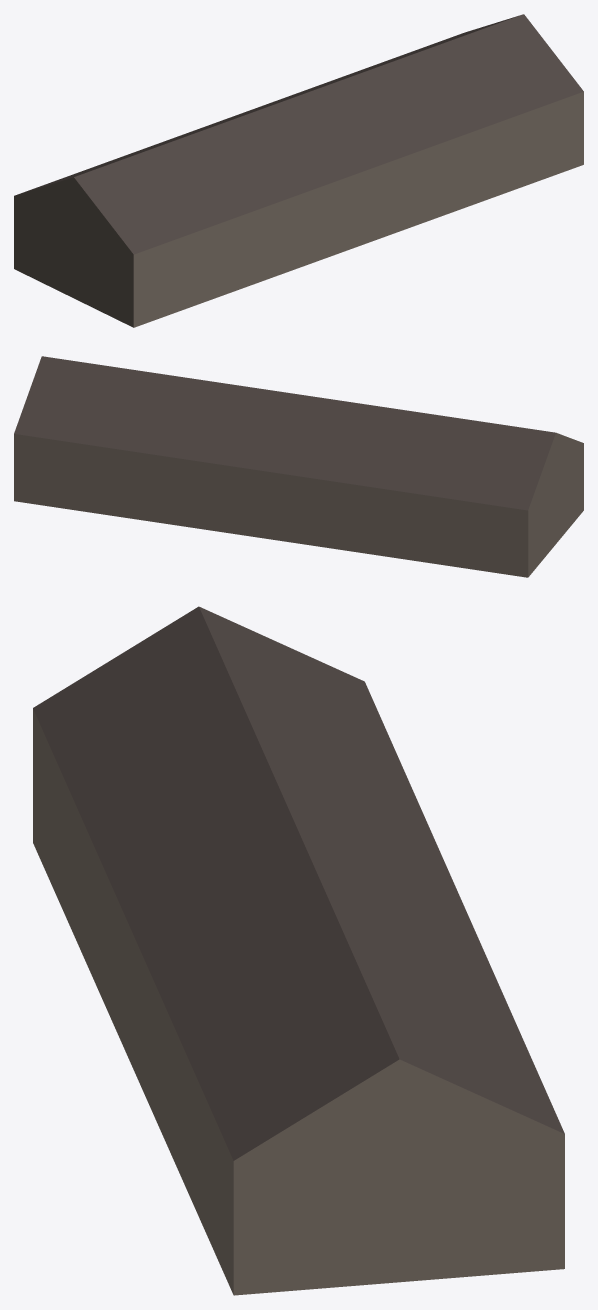
3 views of the same model, one above another, from view 1: azimuth 30°, elevation 25°; view 2: azimuth 150°, elevation 25°; view 3: azimuth 270°, elevation 25° (orthographic). The views are drawn at different scales.
Parts seen in each view (by area): view 1: HP-w408450723; view 2: HP-w408450723; view 3: HP-w408450723.
Boxes of the visible parts, x1,y1,x2,y2 form: HP-w408450723: [14, 14, 583, 327]; HP-w408450723: [14, 356, 583, 577]; HP-w408450723: [33, 606, 564, 1295].
Bounding box in the file's own units: 22.93 × 4.97 × 10.75.
